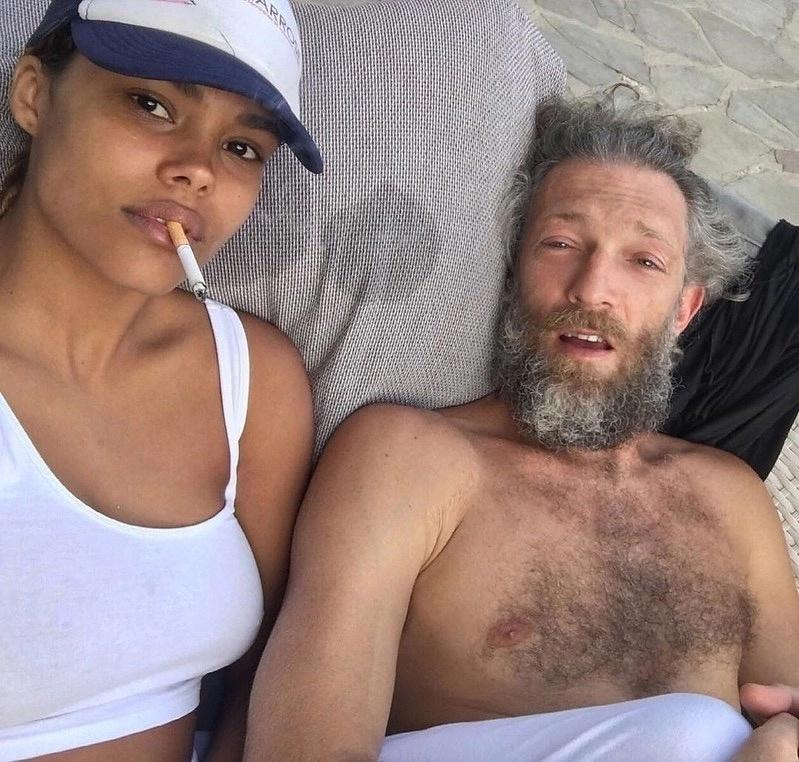cigarette: (167, 222, 207, 302)
